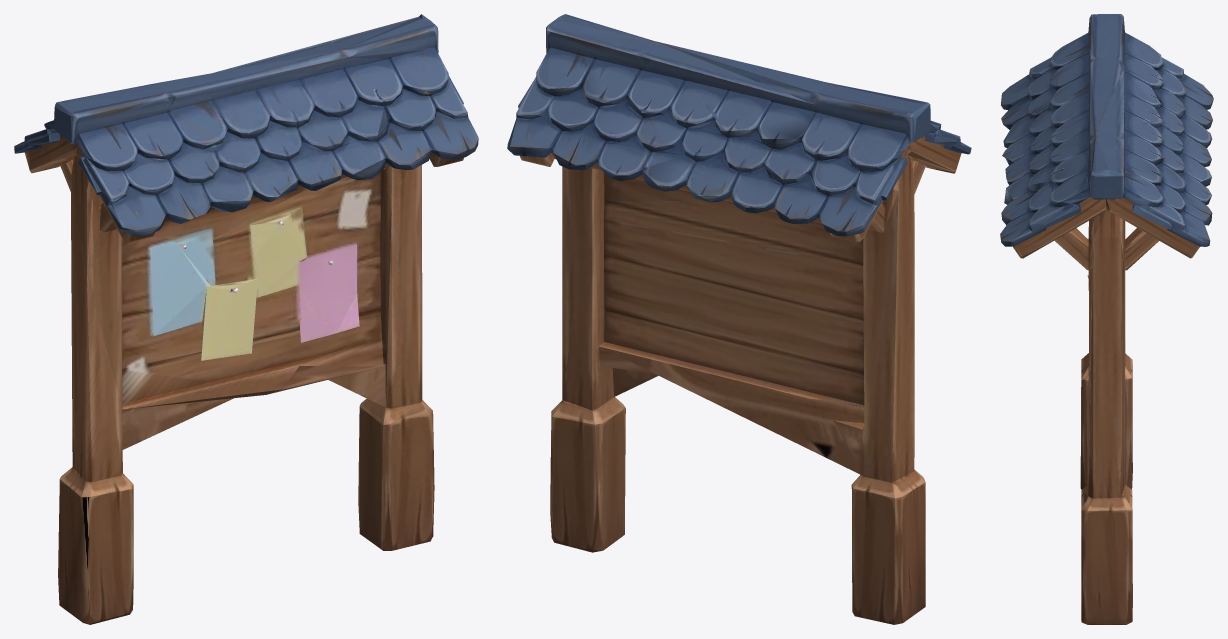
File: prop_noticeboard_a_v001.glb
The picture shows the model from 3 angles, left to right: view 1: azimuth 30°, elevation 25°; view 2: azimuth 150°, elevation 25°; view 3: azimuth 270°, elevation 25°; orthographic projection. The views are drawn at different scales.
Visible parts, largest first — view 1: output_unwrapped; view 2: output_unwrapped; view 3: output_unwrapped.
Boxes of the visible parts, x1,y1,x2,y2 form: output_unwrapped: (14, 14, 478, 624); output_unwrapped: (507, 14, 971, 624); output_unwrapped: (1000, 14, 1213, 624).
Size of the model in its own units: 1.44 by 1.9 by 0.8054.
1 material, 1 textured.
